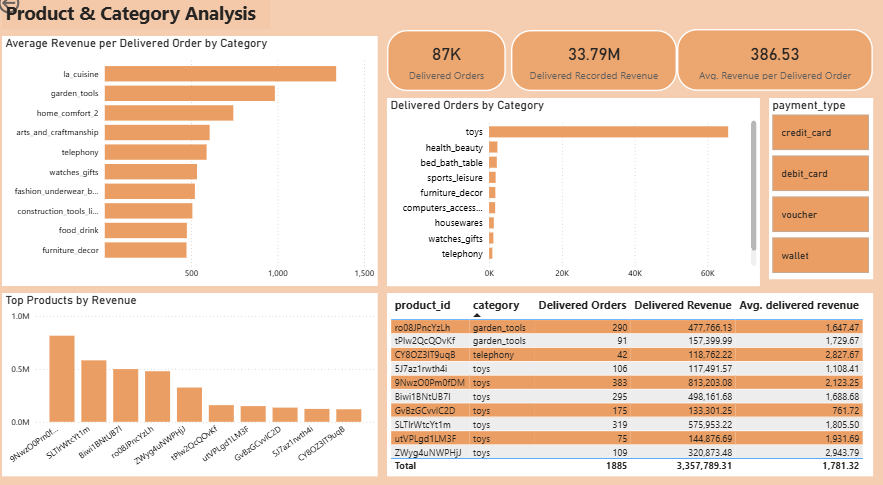

The dashboard page shown, as its layout file describes it:
{"tool":"powerbi","page":{"name":"Page 2","canvas":[1280,720],"ordinal":1},"visuals":[{"type":"clusteredBarChart","title":"Average Revenue per Delivered Order by Category","fields":{"Category":["sales_master_data_cleaned.product_category_name"],"Y":["sales_master_data_cleaned.Average Revenue per Delivered Order"]},"box":[10.1,67.7,541.4,360],"z":0},{"type":"clusteredColumnChart","title":"Top Products by Revenue","fields":{"Category":["sales_master_data_cleaned.product_id"],"Y":["sales_master_data_cleaned.Total Recorded Revenue"]},"box":[10.1,437.8,541.4,263.5],"z":1},{"type":"barChart","title":"Delivered Orders by Category","fields":{"Category":["sales_master_data_cleaned.product_category_name"],"Y":["sales_master_data_cleaned.Delivered Orders"]},"box":[564.5,157,537.1,270.7],"z":2},{"type":"tableEx","fields":{"Values":["sales_master_data_cleaned.product_id","sales_master_data_cleaned.product_category_name","sales_master_data_cleaned.Delivered Orders","sales_master_data_cleaned.Delivered Recorded Revenue","sales_master_data_cleaned.Average delivered revenue"]},"box":[564.5,437.8,699.8,263.5],"z":3},{"type":"actionButton","box":[0,0,100,40],"z":4},{"type":"advancedSlicerVisual","fields":{"Values":["sales_master_data_cleaned.payment_type"]},"box":[1114.6,157,149.8,260.6],"z":5},{"type":"card","fields":{"Values":["sales_master_data_cleaned.Delivered Orders"]},"box":[564.5,59,171.4,87.8],"z":6},{"type":"card","fields":{"Values":["sales_master_data_cleaned.Delivered Recorded Revenue"]},"box":[743,59,239,87.8],"z":7},{"type":"card","fields":{"Values":["sales_master_data_cleaned.Average Revenue per Delivered Order"]},"box":[982.1,57.6,282.2,89.3],"z":8},{"type":"textbox","box":[99.4,99.4,292.3,47.5],"z":9},{"type":"textbox","box":[10.1,10.1,385.9,47.5],"z":10}]}

Visuals, with their boxes in screenshot pixels (x1, y1, x2, y2), scaled from the page's 1280x720 canvas onto the 883x485 screenshot:
"Average Revenue per Delivered Order by Category" clusteredBarChart: bbox=(7, 46, 380, 288)
"Top Products by Revenue" clusteredColumnChart: bbox=(7, 295, 380, 472)
"Delivered Orders by Category" barChart: bbox=(389, 106, 760, 288)
tableEx - sales_master_data_cleaned.product_id x sales_master_data_cleaned.product_category_name: bbox=(389, 295, 872, 472)
actionButton: bbox=(0, 0, 69, 27)
advancedSlicerVisual - sales_master_data_cleaned.payment_type: bbox=(769, 106, 872, 281)
card - sales_master_data_cleaned.Delivered Orders: bbox=(389, 40, 508, 99)
card - sales_master_data_cleaned.Delivered Recorded Revenue: bbox=(513, 40, 677, 99)
card - sales_master_data_cleaned.Average Revenue per Delivered Order: bbox=(677, 39, 872, 99)
textbox: bbox=(69, 67, 270, 99)
textbox: bbox=(7, 7, 273, 39)
